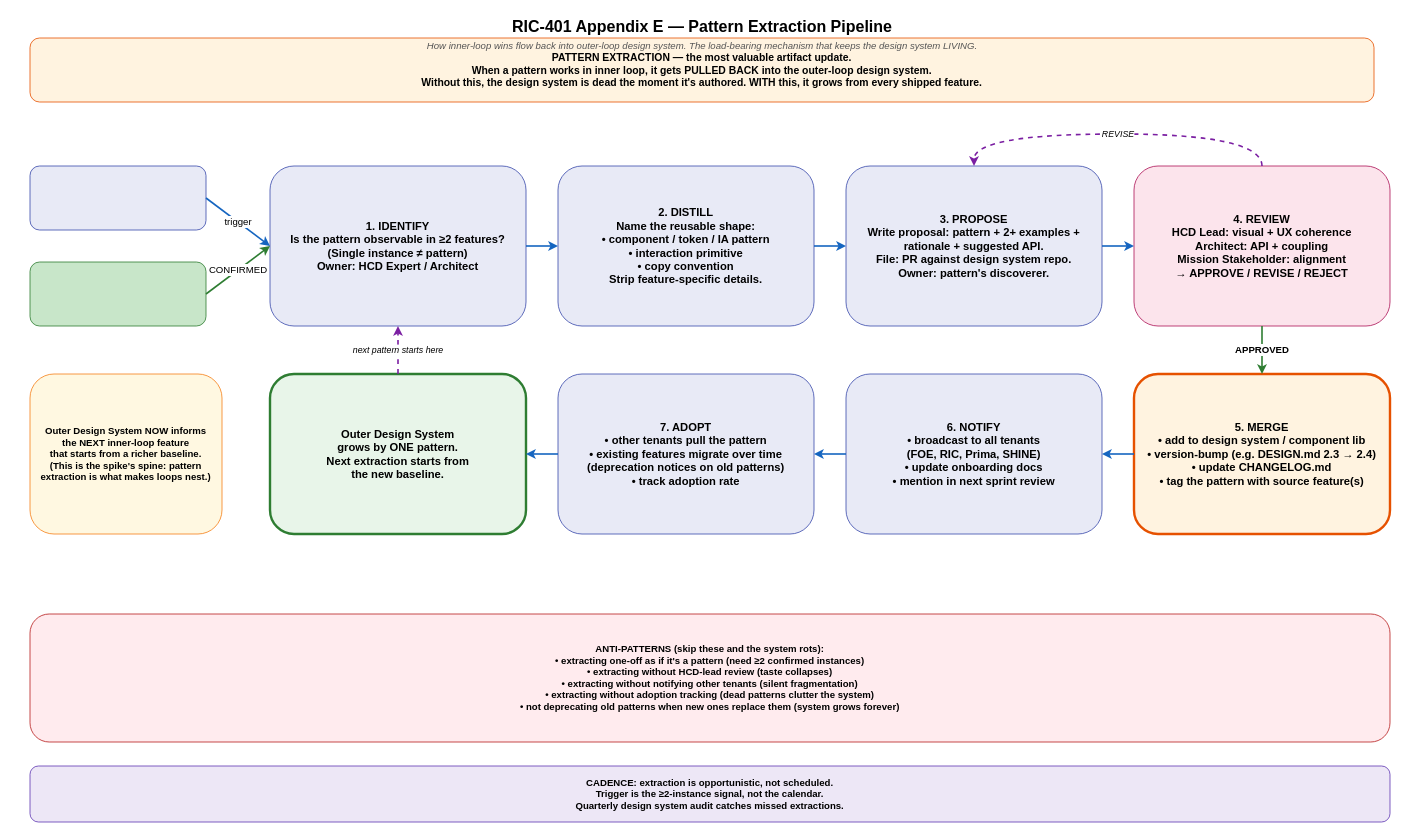
This 1405x836 diagram has some shape labels left out. Here are the shapes that lost their labels. From the top down, the box of each, then its label:
(29, 165, 206, 230): Inner Loop feature ships
(29, 261, 206, 326): Hypothesis Loop outcome: CONFIRMED
